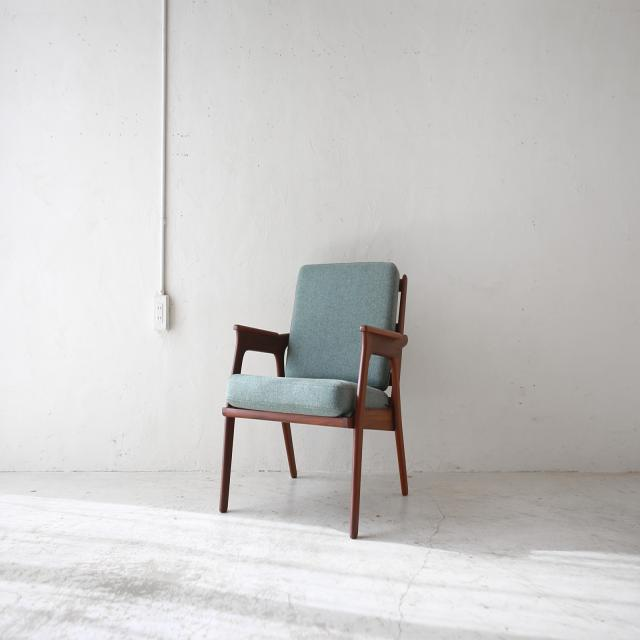chair vintage: (218, 258, 413, 545)
